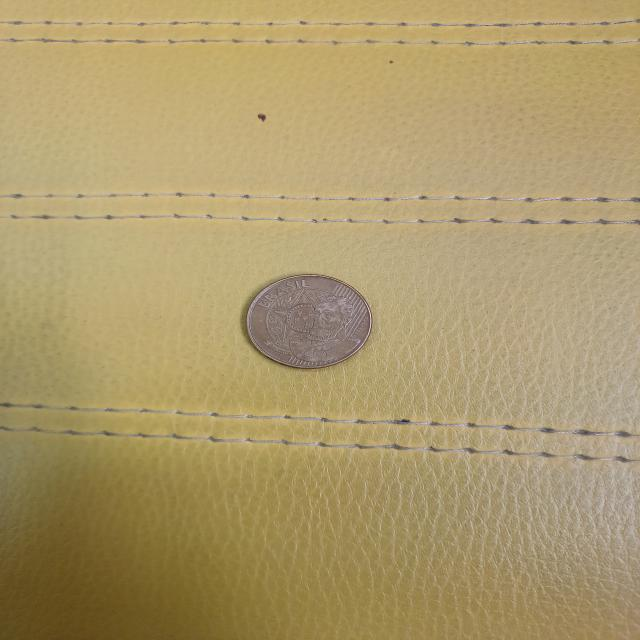25 cents: (239, 268, 378, 371)
